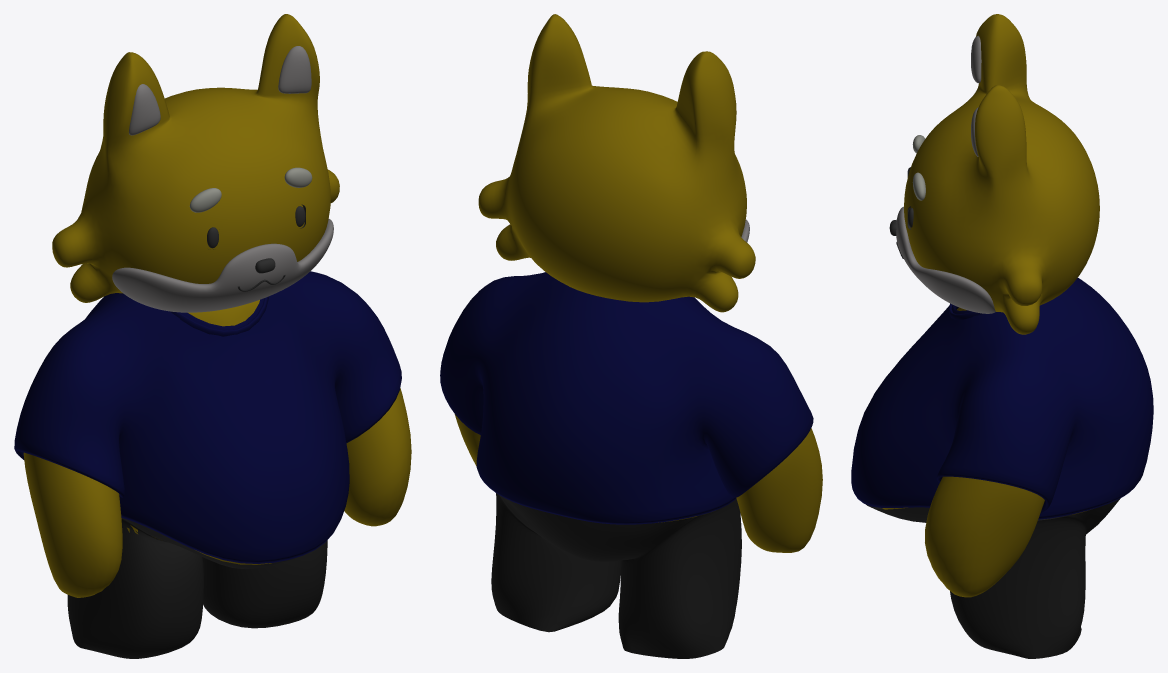
Rendered from şişman turuncu.fbx.
The picture shows the model from 3 angles, left to right: view 1: azimuth 30°, elevation 25°; view 2: azimuth 150°, elevation 25°; view 3: azimuth 270°, elevation 25°; orthographic projection. The views are drawn at different scales.
Visible parts, largest first — view 1: Cube.009, Cube, Cube.010, Cube.001, Cube.002, Cube.003, Cube.006; view 2: Cube.009, Cube, Cube.010, Cube.001; view 3: Cube.009, Cube, Cube.010, Cube.001, Cube.002, Cube.003, Cube.006.
Boxes of the visible parts, x1,y1,x2,y2 form: Cube.009: (14,271,401,563); Cube: (52,14,339,302); Cube.010: (67,517,327,658); Cube.001: (23,300,411,597); Cube.002: (112,219,333,312); Cube.003: (128,46,311,135); Cube.006: (189,167,312,212); Cube.009: (440,272,813,524); Cube: (478,14,755,312); Cube.010: (491,493,741,658); Cube.001: (454,414,822,552); Cube.009: (851,278,1153,519); Cube: (904,14,1099,334); Cube.010: (866,498,1120,658); Cube.001: (882,307,1090,597); Cube.002: (896,206,995,313); Cube.003: (971,35,981,156); Cube.006: (912,135,925,200).
Size of the model in its own units: 193 by 301 by 148.
